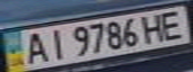6: (121, 16, 145, 47)
7: (87, 20, 109, 54)
8: (106, 18, 127, 51)
9: (69, 23, 90, 57)
A: (18, 29, 51, 64)
E: (154, 8, 190, 41)
H: (136, 11, 172, 44)
I: (42, 26, 69, 61)
